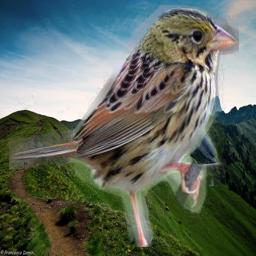Crow: (125, 54, 226, 186)
Sparrow: (9, 5, 239, 247)
